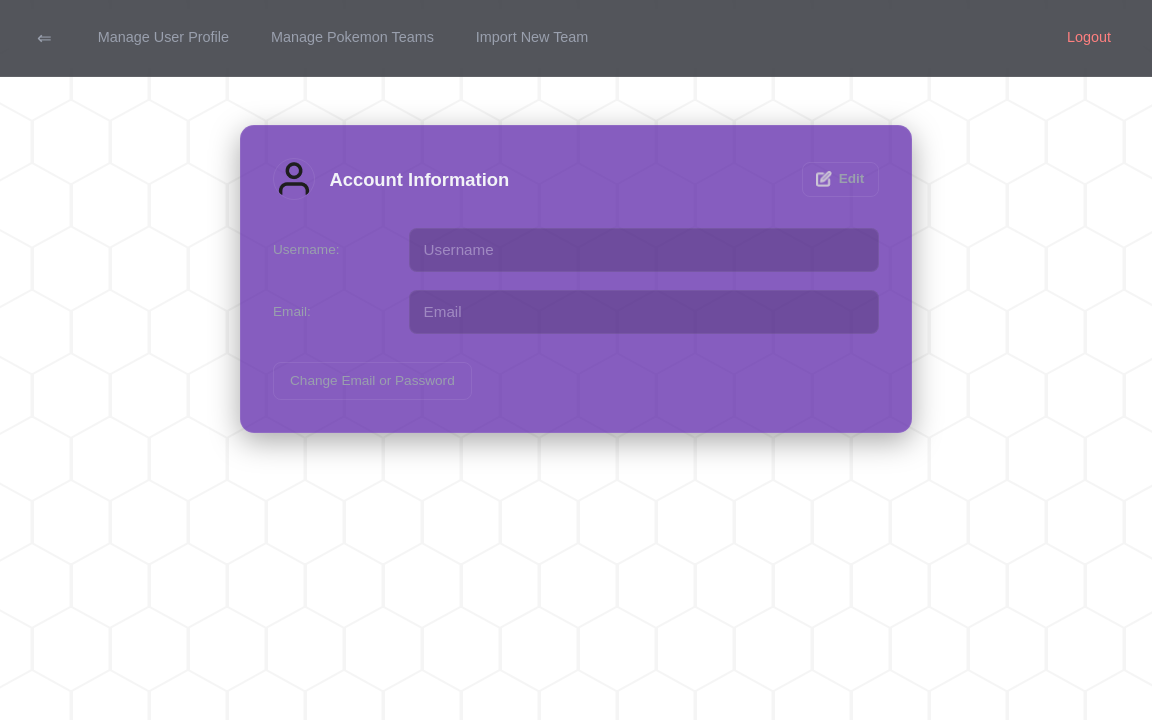
Test: UserSettings - other tabs › shows the Pokemon teams tab and hides the profile tab
The image size is (1152, 720).
Click the button "Manage Pokemon Teams". click: (352, 38)
box: [254,18,451,59]
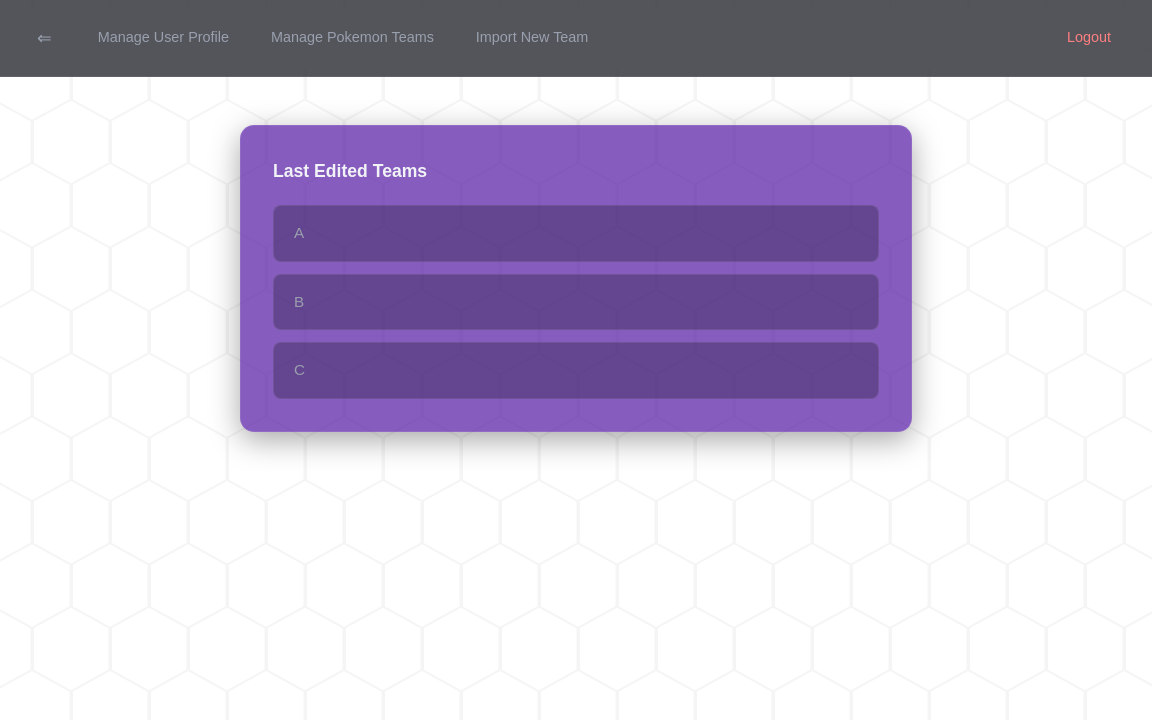
Expected: the text "Last Edited Teams" is shown, [273,161,427,181]
Expected: the text "Account Information" is gone
